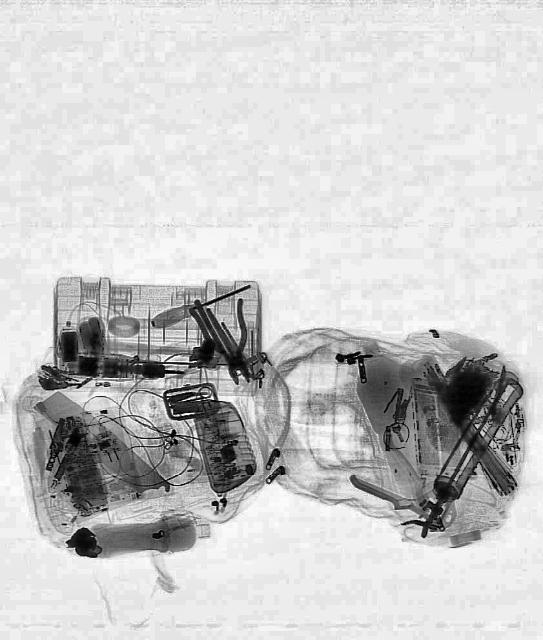Pliers: (186, 287, 270, 393)
